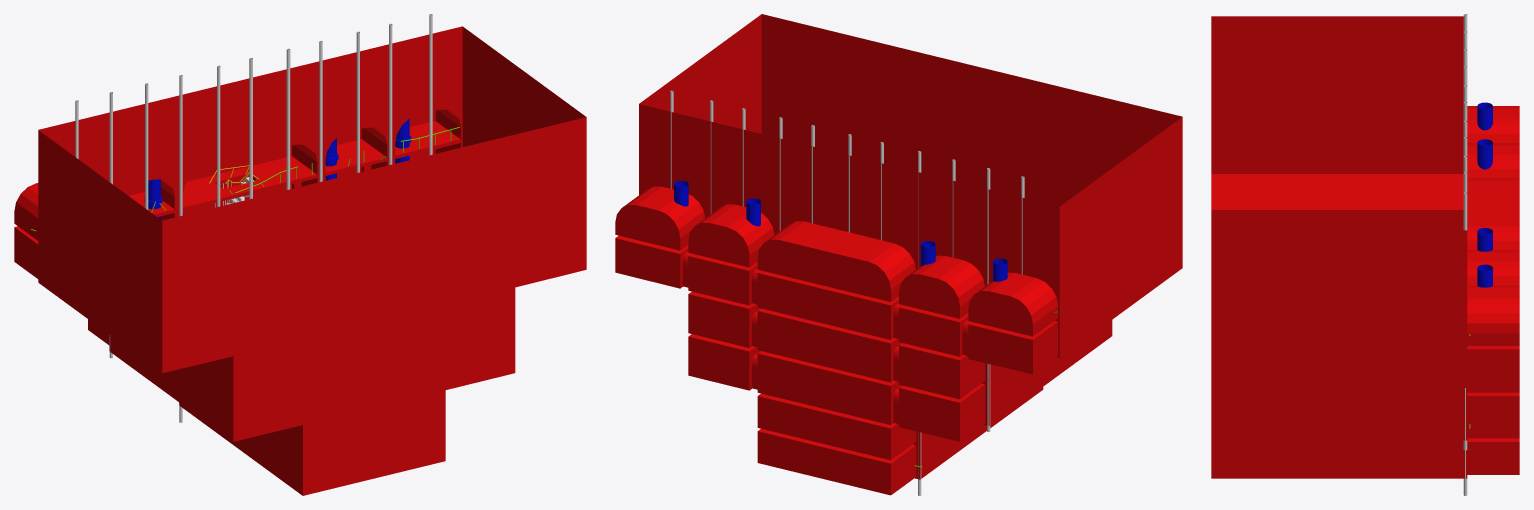
The picture shows the model from 3 angles, left to right: view 1: azimuth 30°, elevation 25°; view 2: azimuth 150°, elevation 25°; view 3: azimuth 270°, elevation 25°; orthographic projection. The views are drawn at different scales.
Visible parts, largest first — view 1: 後, 前, 左, 右, 水管_細, 水管_粗; view 2: 前, 後, 左, 右, 水管_細, 水管_粗; view 3: 右, 左, 前, 底, 水管_粗, 水管_細.
Part boxes in pixels (x1,y1,x2,y2): 後: [162, 117, 586, 495]; 前: [14, 26, 462, 344]; 左: [38, 130, 302, 495]; 右: [462, 26, 585, 146]; 水管_細: [75, 14, 432, 422]; 水管_粗: [144, 118, 411, 219]; 前: [615, 104, 1059, 495]; 後: [761, 14, 1182, 206]; 左: [920, 117, 1182, 479]; 右: [639, 14, 761, 133]; 水管_細: [670, 90, 1024, 495]; 水管_粗: [674, 180, 1007, 281]; 右: [1211, 230, 1467, 478]; 左: [1211, 16, 1463, 230]; 前: [1467, 106, 1519, 474]; 底: [1211, 174, 1463, 209]; 水管_粗: [1477, 102, 1492, 287]; 水管_細: [1463, 14, 1467, 495].
Size of the model in its own units: 5445 by 4204 by 3287.
